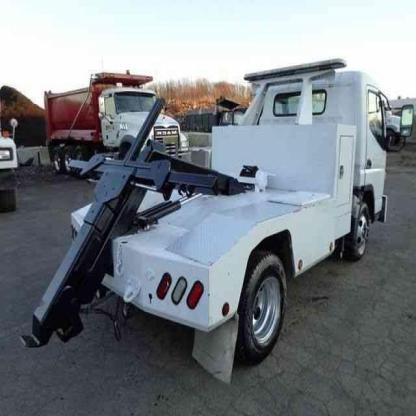truck: (22, 58, 414, 373), (45, 68, 190, 186)
